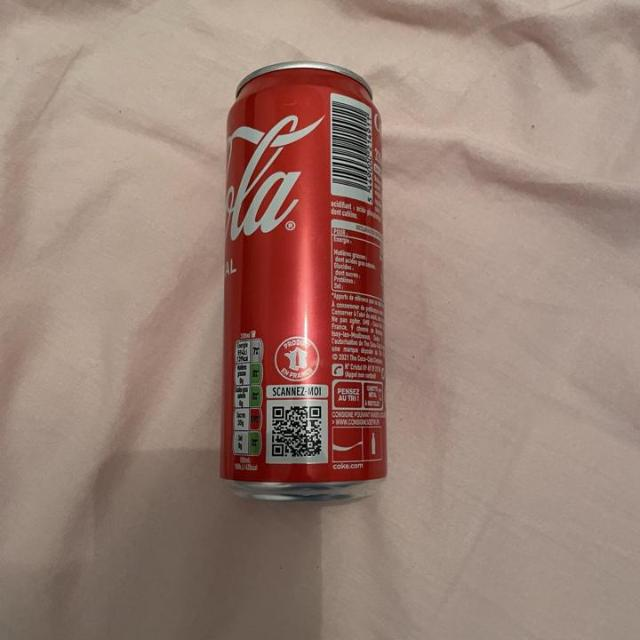can: (212, 53, 396, 523)
